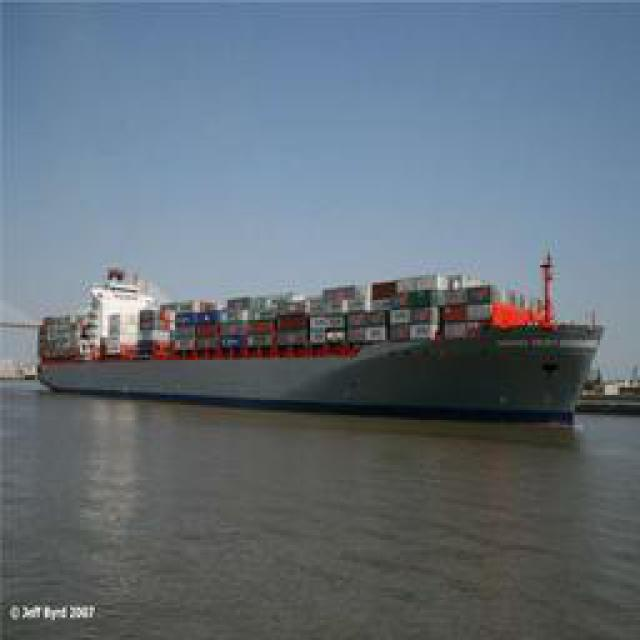Ship: (41, 238, 599, 416)
